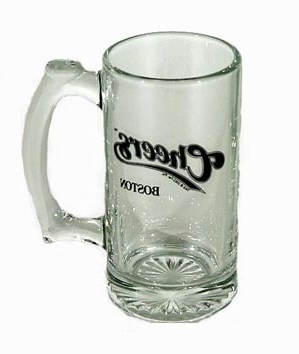cup: (25, 34, 242, 326)
